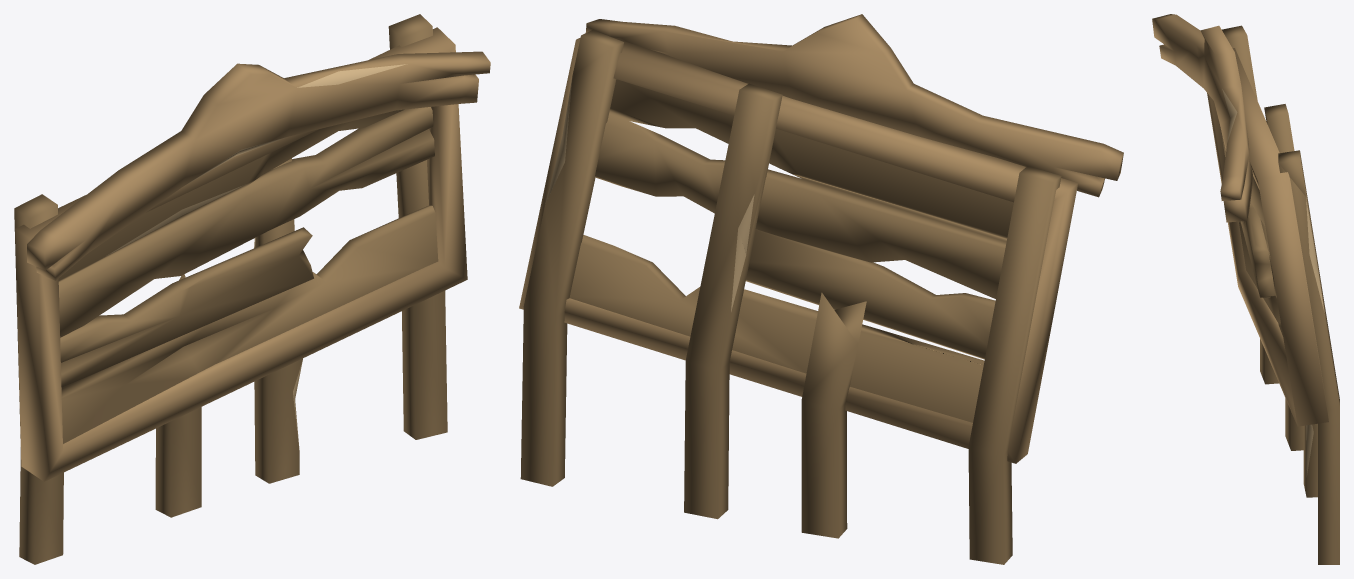
Rendered from rpgpp_av_notice_board_01.gltf.
The picture shows the model from 3 angles, left to right: view 1: azimuth 30°, elevation 25°; view 2: azimuth 150°, elevation 25°; view 3: azimuth 270°, elevation 25°; orthographic projection. The views are drawn at different scales.
Visible parts, largest first — view 1: rpgpp_av_notice_board_01; view 2: rpgpp_av_notice_board_01; view 3: rpgpp_av_notice_board_01.
Part boxes in pixels (x1=…): rpgpp_av_notice_board_01: x1=14, y1=14, x2=490, y2=564; rpgpp_av_notice_board_01: x1=519, y1=14, x2=1123, y2=564; rpgpp_av_notice_board_01: x1=1152, y1=14, x2=1339, y2=564.
Size of the model in its own units: 0.0267 by 0.0237 by 0.00951.
Materials: 1 (1 with a texture image).
